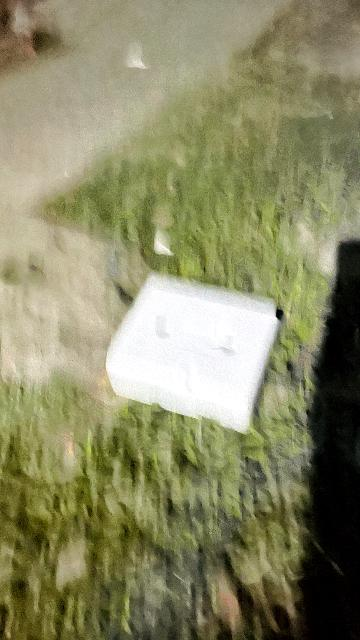cocksheet: (106, 277, 281, 414)
